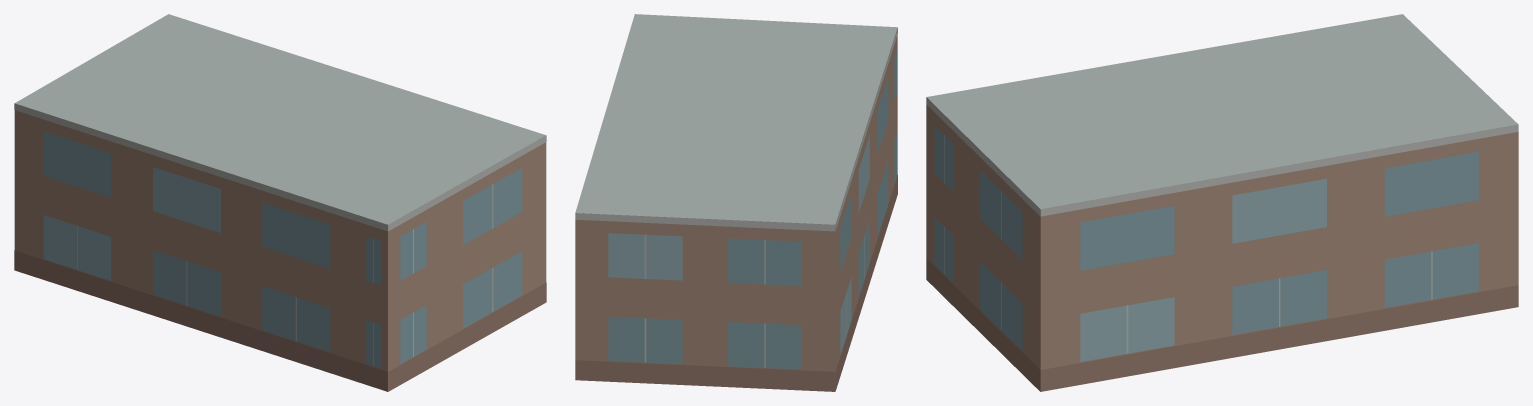
The model's file is survey-upis-32855528.glb.
3 views of the same model, side by side, from view 1: azimuth 30°, elevation 25°; view 2: azimuth 150°, elevation 25°; view 3: azimuth 270°, elevation 25° (orthographic). The views are drawn at different scales.
Parts seen in each view (by area): view 1: survey-upis-32855528.tmp; view 2: survey-upis-32855528.tmp; view 3: survey-upis-32855528.tmp.
Boxes of the visible parts, left/top/right/bottom form: survey-upis-32855528.tmp: left=14, top=14, right=546, bottom=391; survey-upis-32855528.tmp: left=575, top=14, right=897, bottom=391; survey-upis-32855528.tmp: left=926, top=14, right=1518, bottom=391.
Size of the model in its own units: 14 by 6.1 by 17.94.
